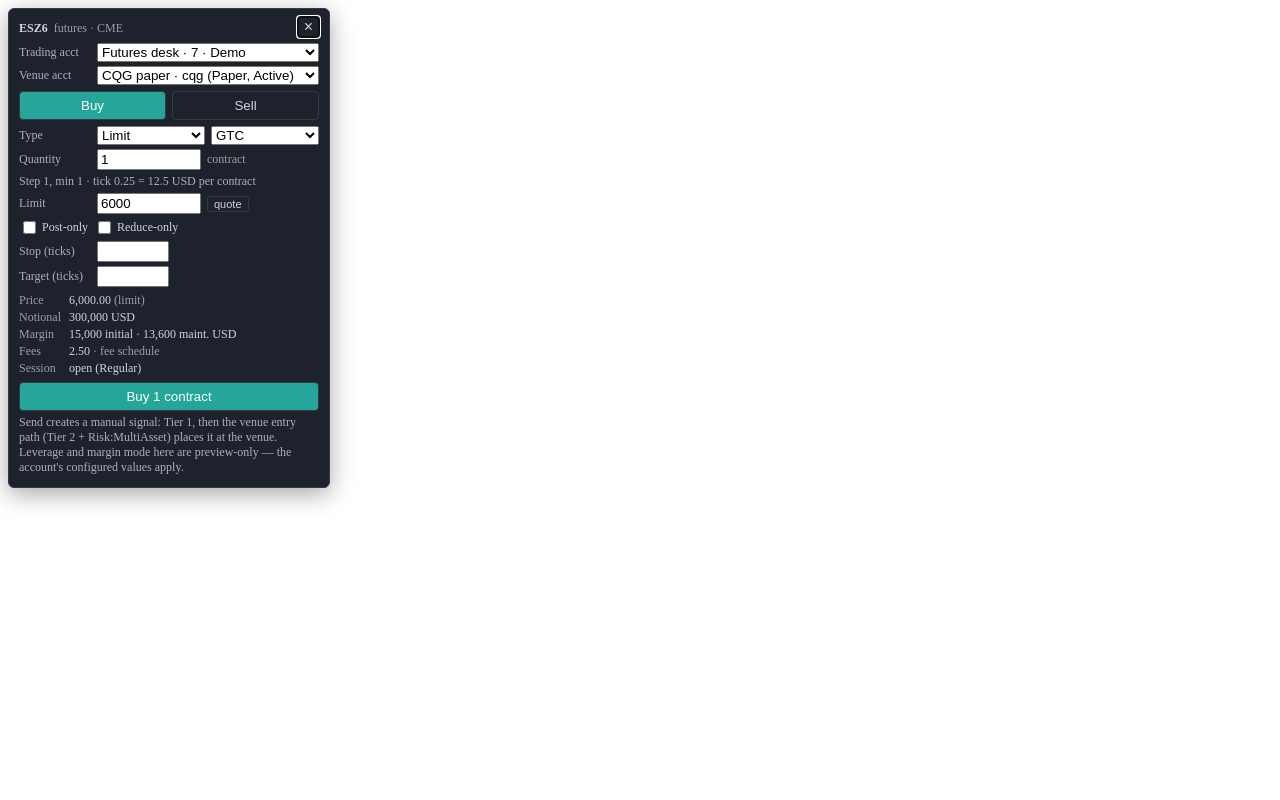
Test: VenueOrderTicketComponent — Send › a four-eyes hold (202 -202-approval) is pending, not failed
Click the button with test id "venue-ticket-submit" at (169, 396), box [19, 382, 319, 411]
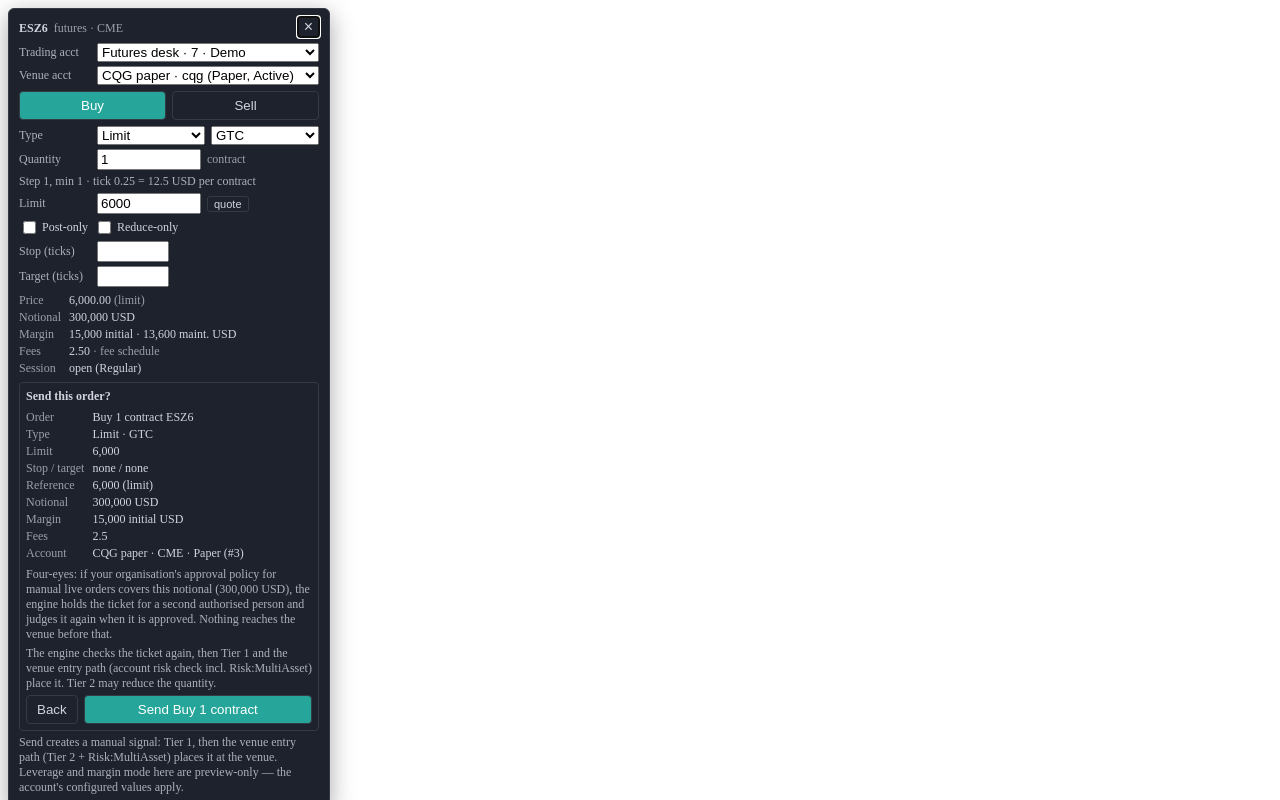
Click the button with test id "venue-ticket-confirm" at (198, 710), box [84, 695, 312, 724]
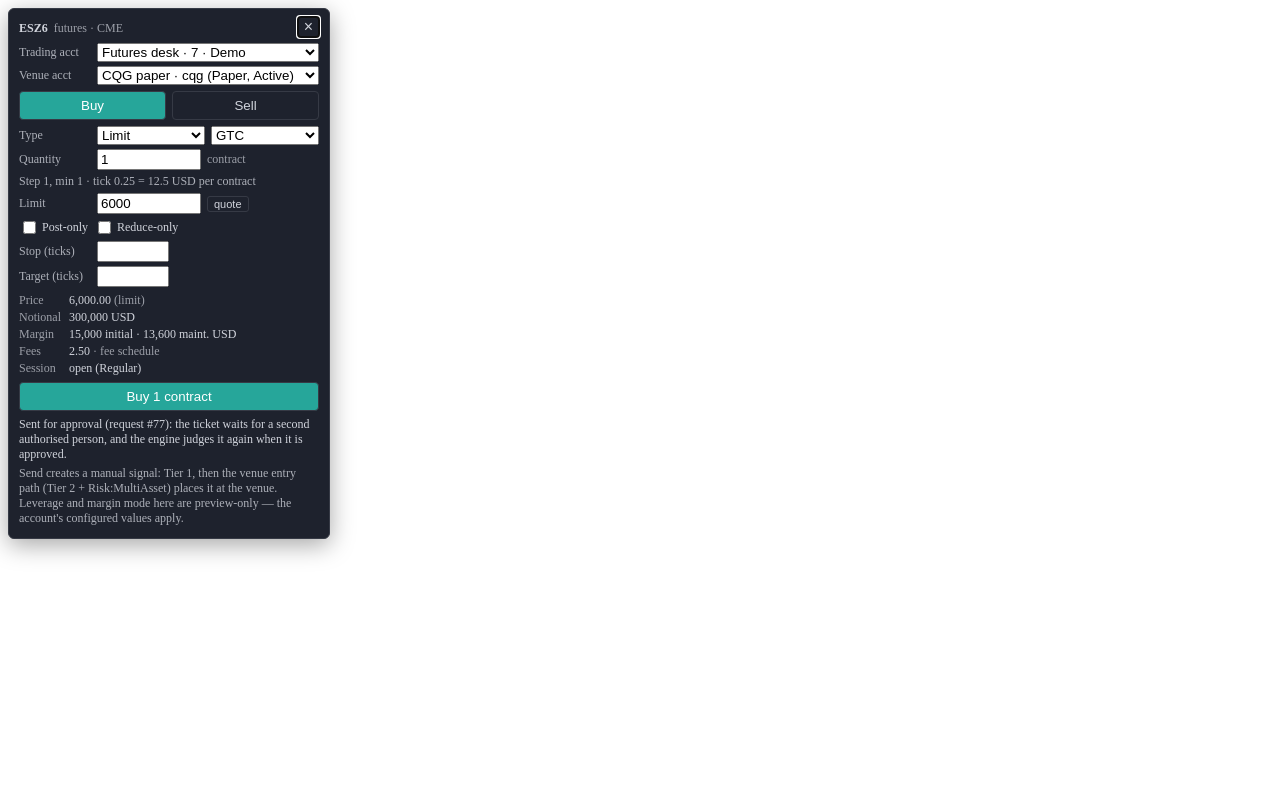
Expected: the message with test id "venue-ticket-result" shows "Sent for approval (request #77)", [19, 417, 310, 461]
